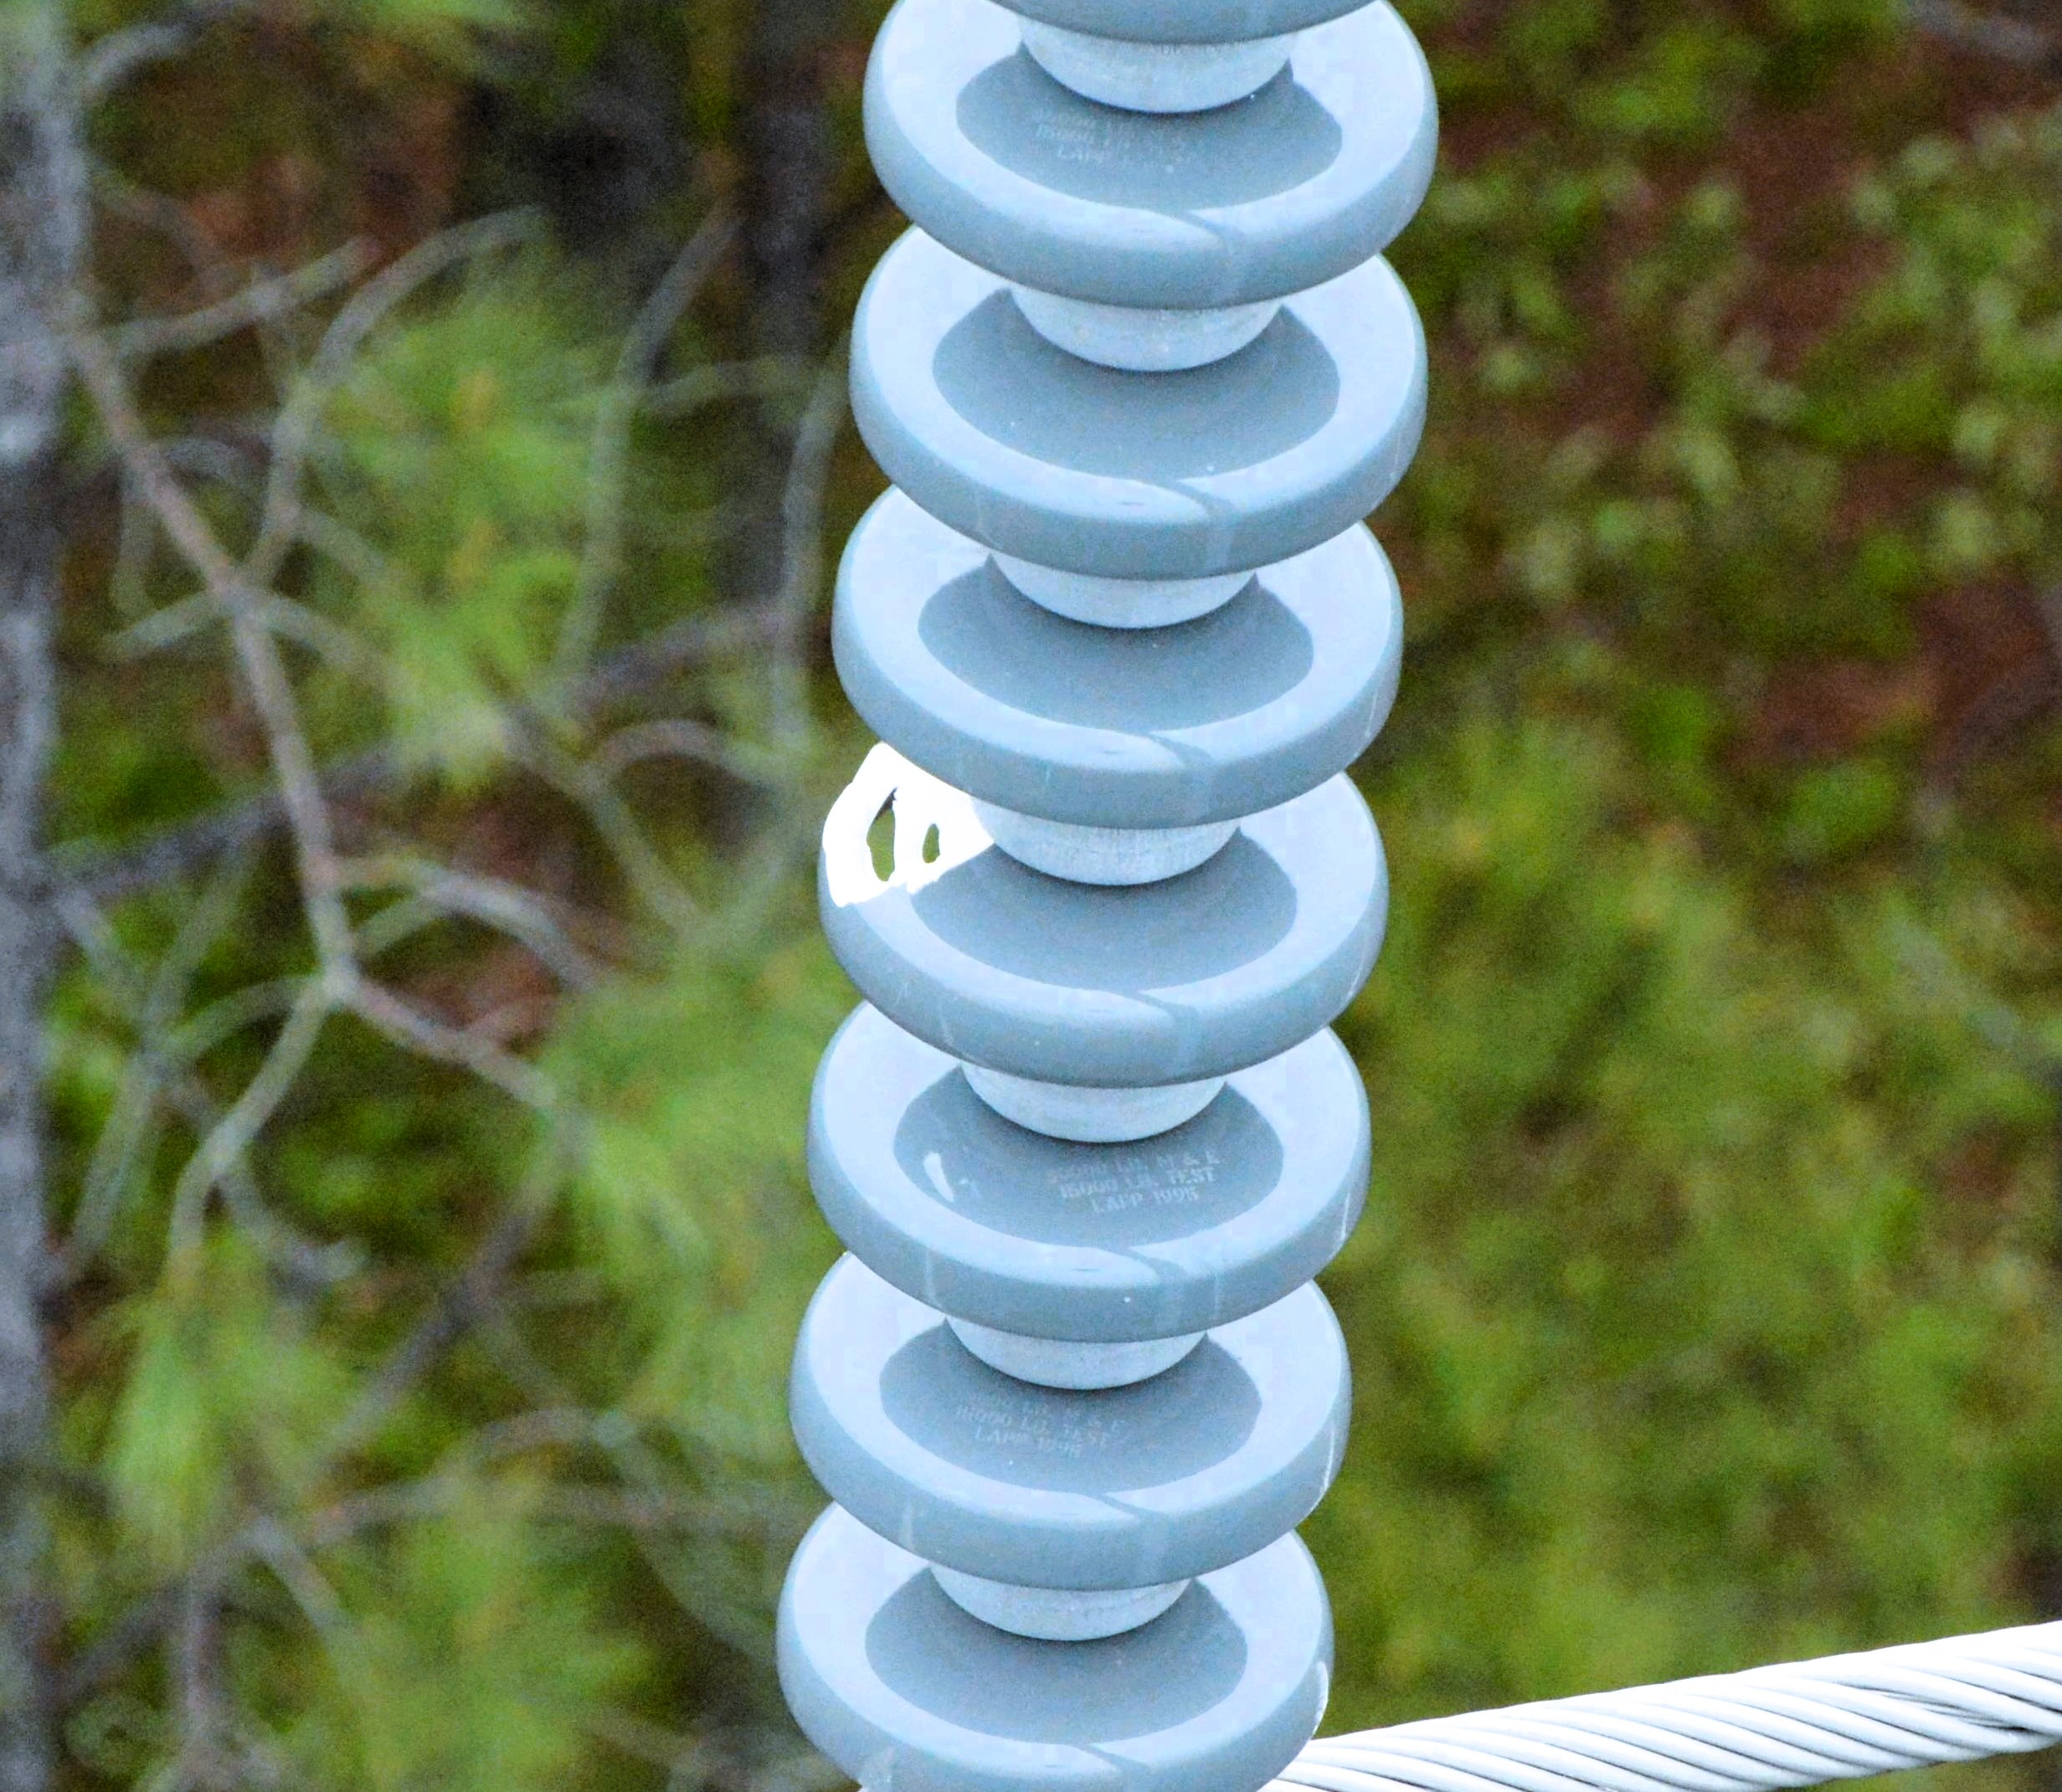insulator breakage: (779, 726, 1419, 1101)
